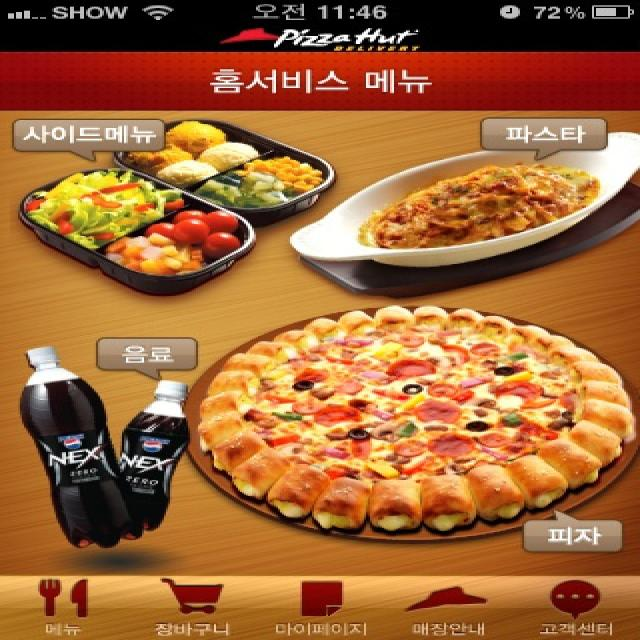Wet Waste: (198, 302, 637, 540)
